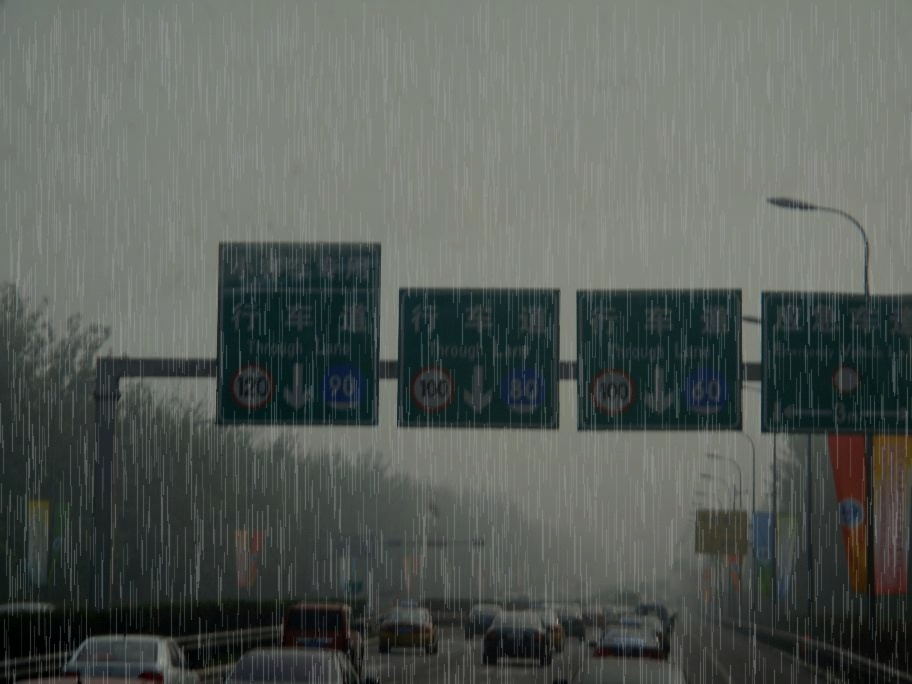Informative Signs: (317, 363, 368, 412), (682, 369, 731, 417), (501, 367, 546, 416)
Prohibitory Signs: (589, 367, 638, 417), (410, 365, 458, 415), (228, 363, 277, 411), (829, 363, 863, 397)
